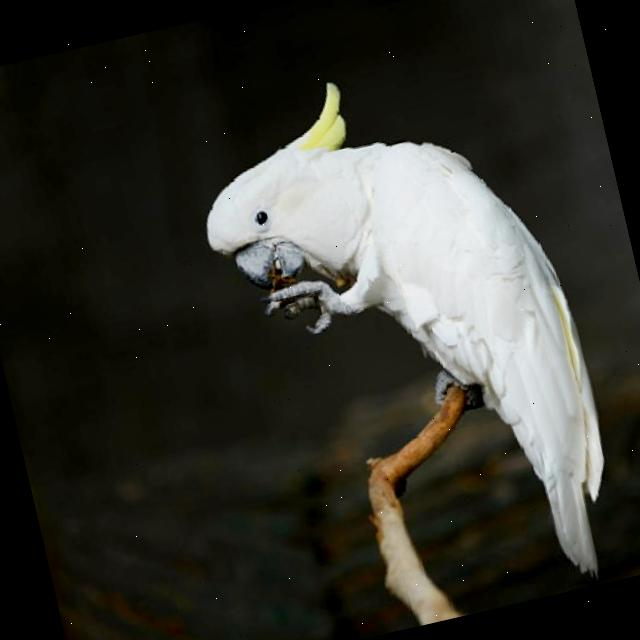Kakatua Putih: (138, 8, 640, 640)
